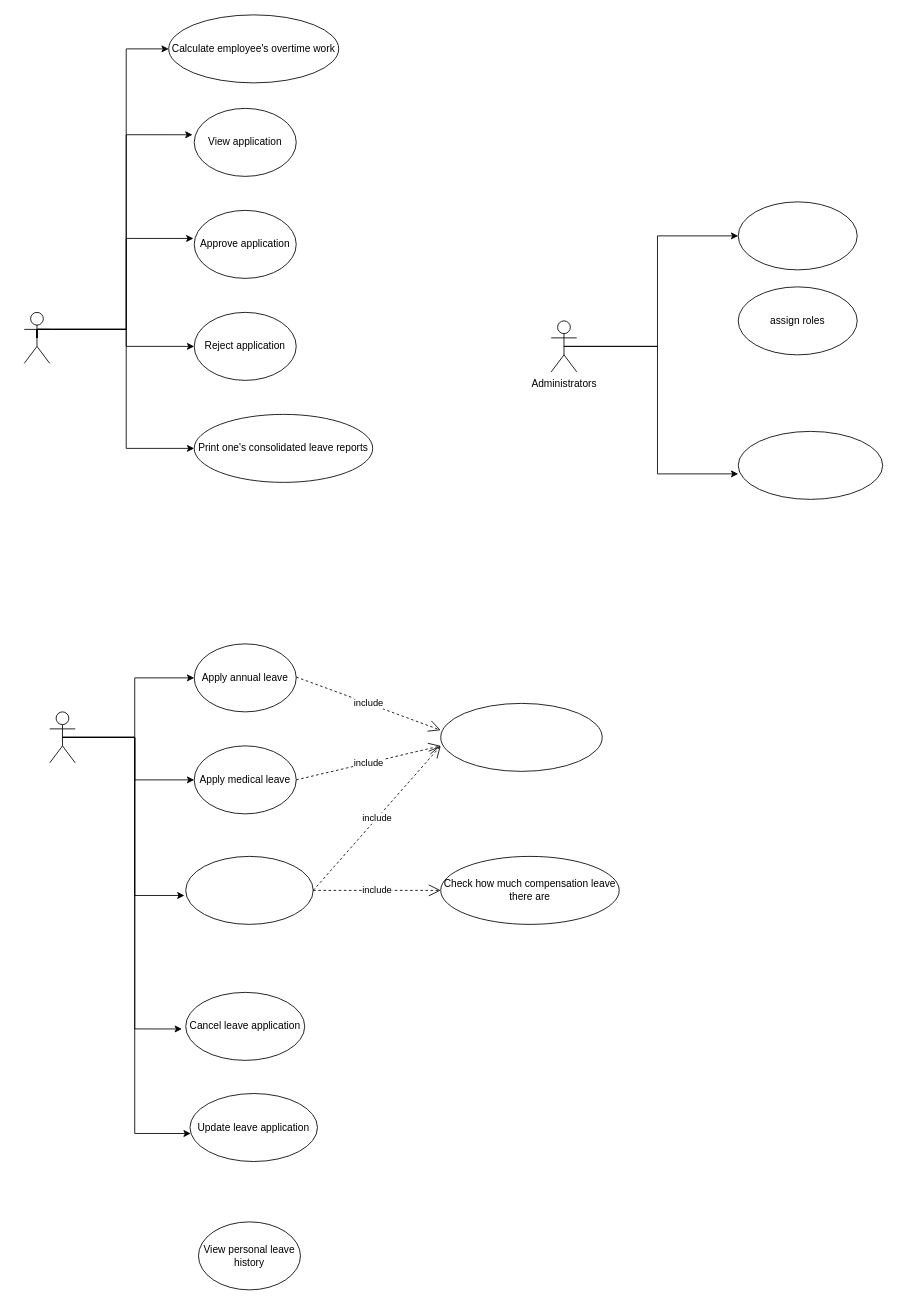
Some shapes in this 898 by 1305 pixel diagram are drawn without their labels. The centre of each missing label's shape, as x and y in pixels:
"Apply compensation leave" goes at (249,890).
"Check if there is pending request" goes at (521,737).
"create/delete employee" goes at (797,235).
"Employees" goes at (62,737).
"Manage approval hierarchy" goes at (810,465).
"Managers" goes at (36,337).
